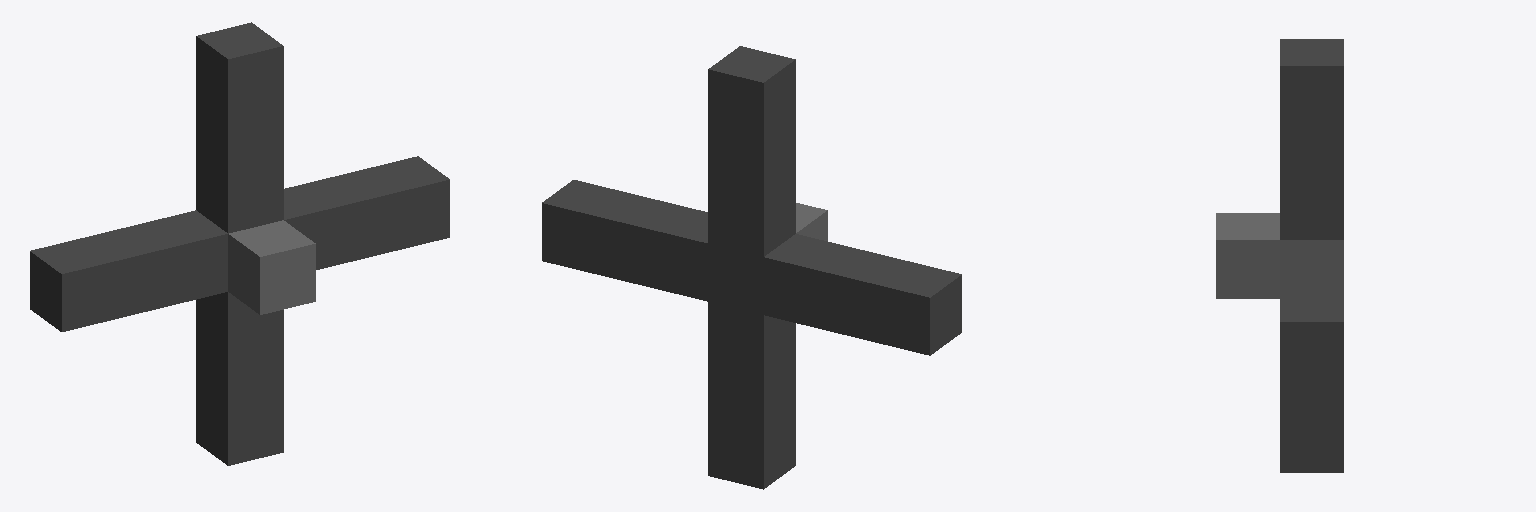
3 renders of one model, left to right at view 1: azimuth 30°, elevation 25°; view 2: azimuth 150°, elevation 25°; view 3: azimuth 270°, elevation 25°, orthographic.
Size of the model in its own units: 7 by 7 by 2.
1 materials, 1 textured.